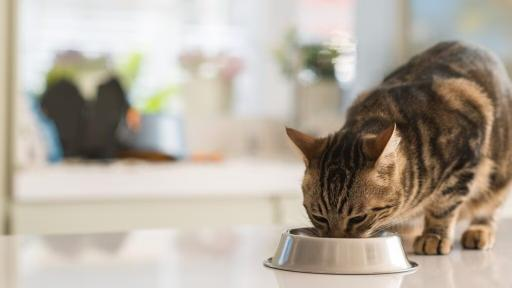cat_eating: (264, 42, 512, 274)
